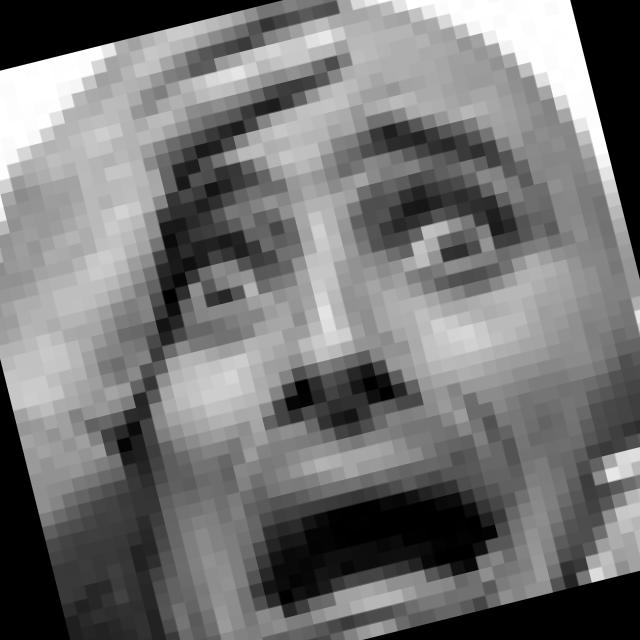fear: (122, 81, 640, 640)
